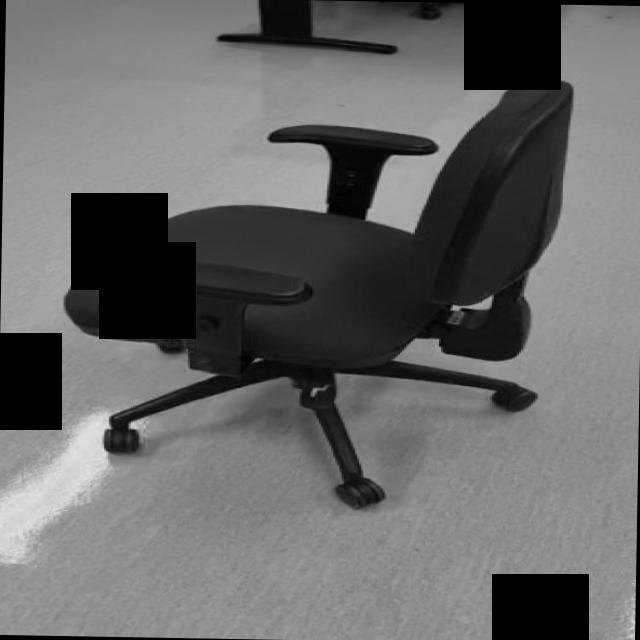chair: (64, 70, 574, 510)
